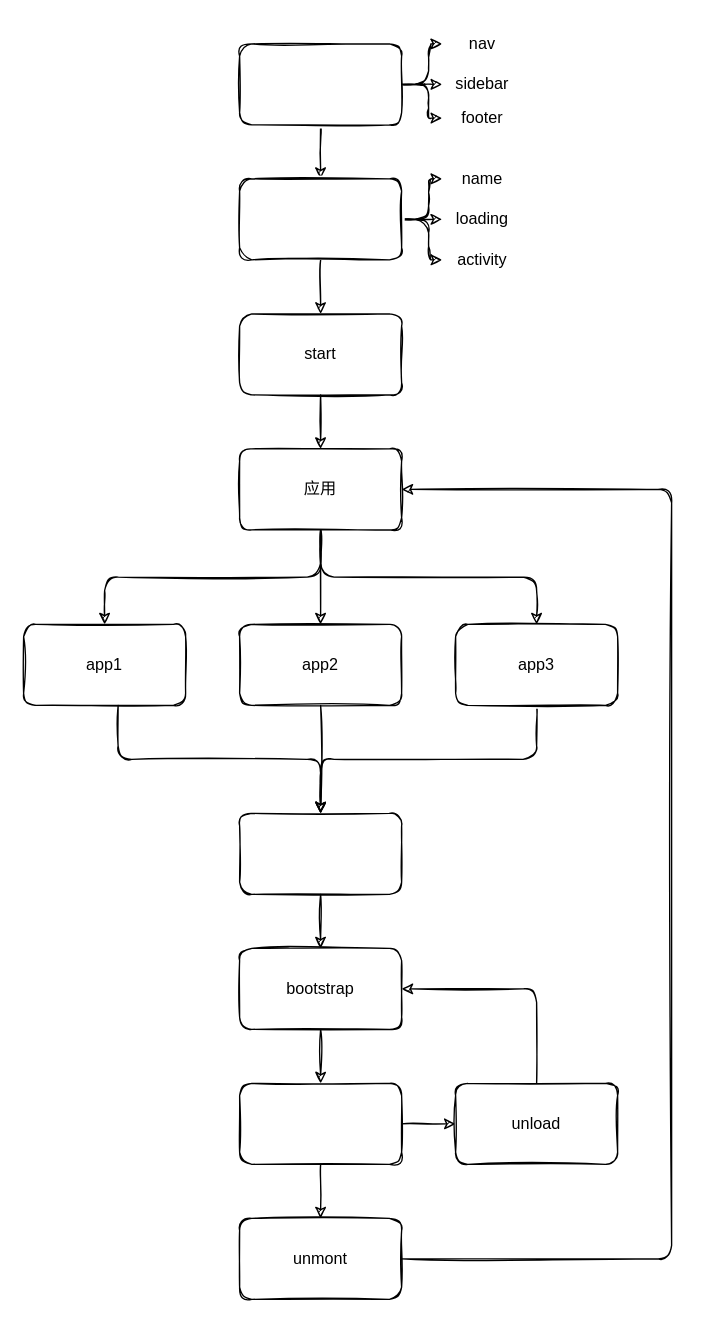
Some shapes in this 706 by 1323 pixel diagram are drawn without their labels. Here are the shapes that lost their labels. From the top down, the centre of each, then its label:
At [320,84]: "基座".
At [320,219]: "registerAppliction".
At [320,853]: "load".
At [320,1123]: "mount".
